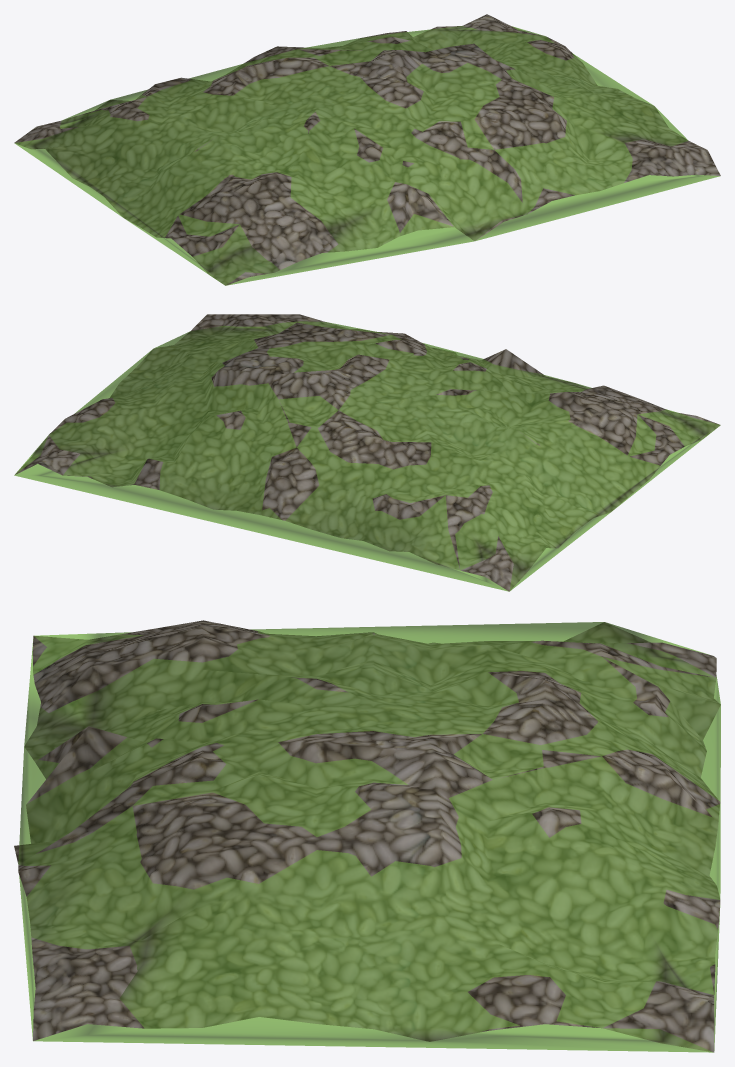
Rendered from pg_Beans_01.fbx.
3 views of the same model, one above another, from view 1: azimuth 30°, elevation 25°; view 2: azimuth 150°, elevation 25°; view 3: azimuth 270°, elevation 25° (orthographic). The views are drawn at different scales.
Visible parts, largest first — view 1: pg_beans_01_a_LOD0, pg_beans_01_a_col; view 2: pg_beans_01_a_LOD0, pg_beans_01_a_col; view 3: pg_beans_01_a_LOD0, pg_beans_01_a_col.
Boxes of the visible parts, bbox=[...] form: pg_beans_01_a_LOD0: bbox=[14, 14, 720, 285]; pg_beans_01_a_col: bbox=[14, 26, 720, 285]; pg_beans_01_a_LOD0: bbox=[15, 314, 720, 591]; pg_beans_01_a_col: bbox=[14, 321, 720, 591]; pg_beans_01_a_LOD0: bbox=[14, 620, 720, 1052]; pg_beans_01_a_col: bbox=[18, 622, 720, 1052].
Size of what is drawn, in the model's own units: 39.66 by 6.65 by 30.13.
